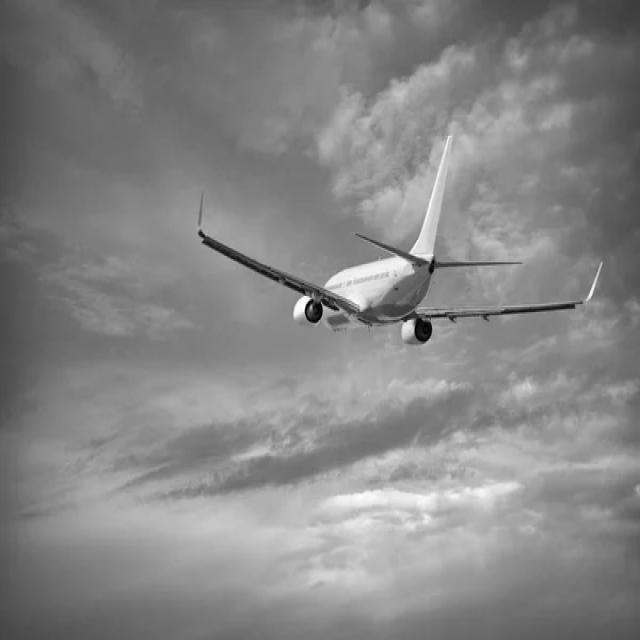Aircraft: (190, 131, 608, 359)
